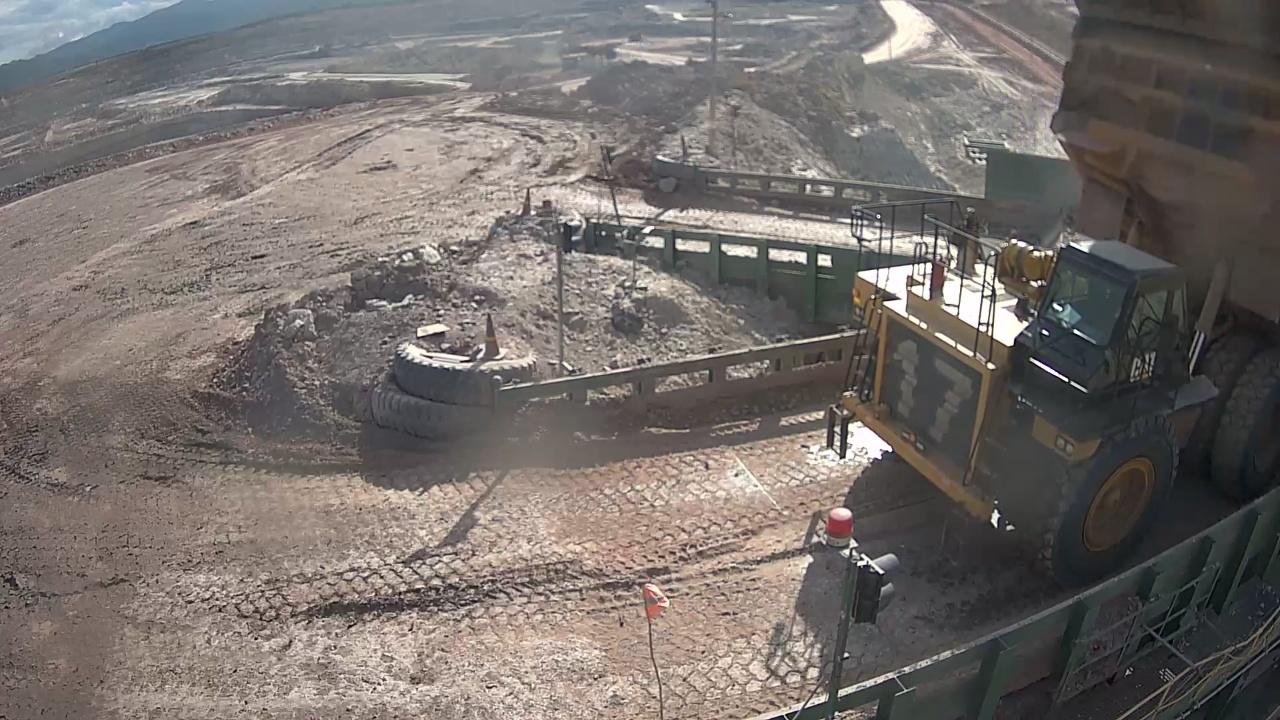dumping_soil: (827, 1, 1280, 598)
front_number: (884, 332, 982, 457)
